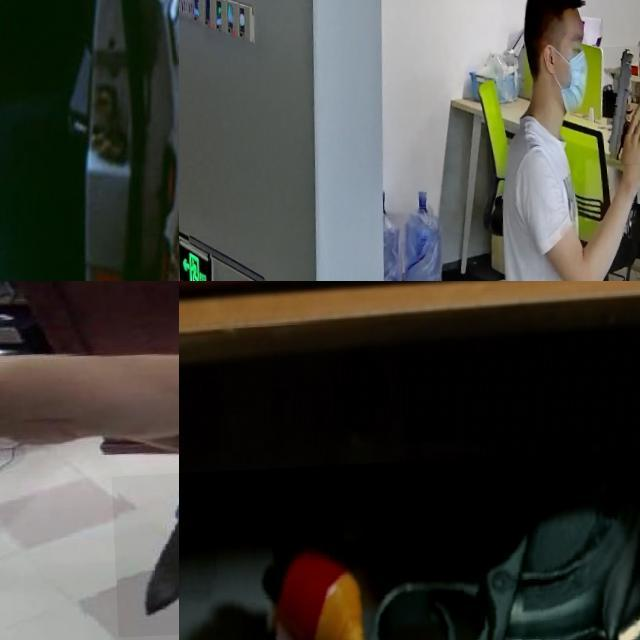-: (108, 470, 179, 639)
gun-knife-thesis - v11 Yolov5 augmented: (179, 453, 640, 640), (0, 0, 57, 95), (600, 51, 640, 172)
